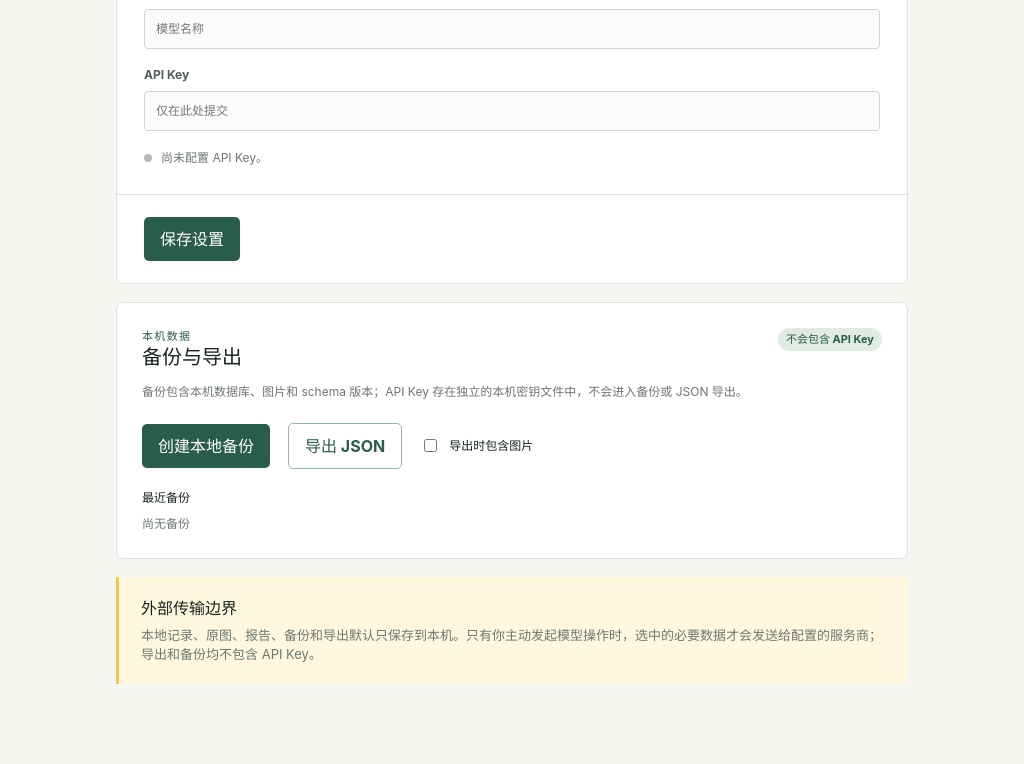
Test: SettingsPage › shows a safe error when backup creation fails
(page scrolled)
Step 1. Click the button "创建本地备份" → click(206, 446), box [142, 424, 270, 468]
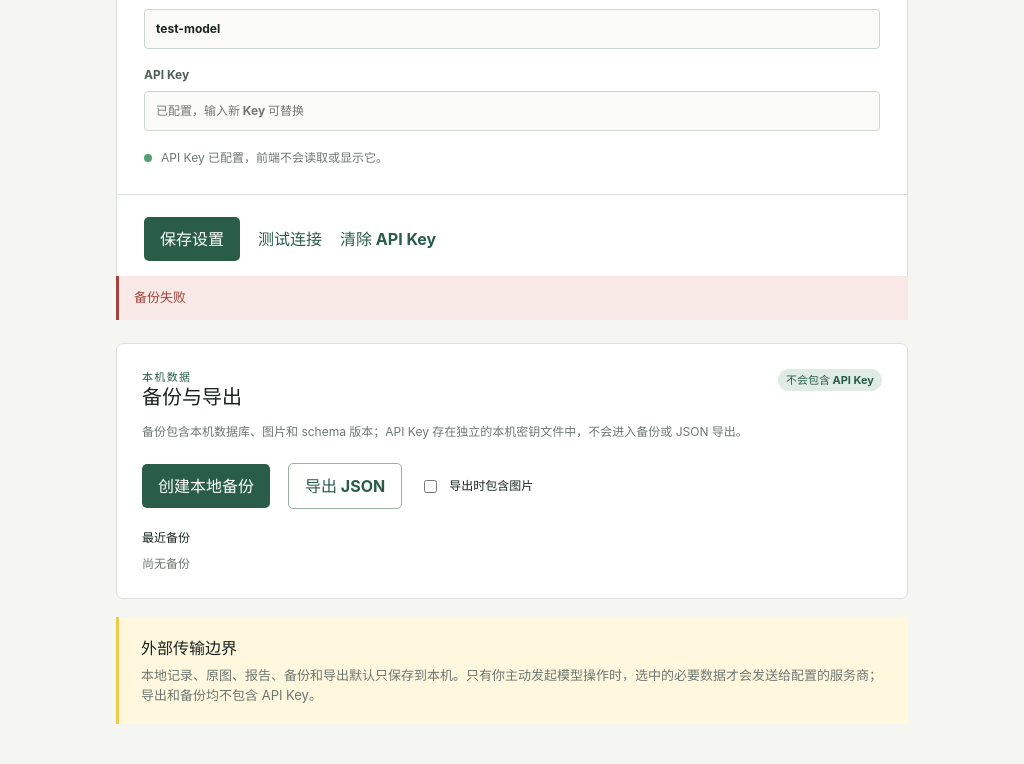
Result: the text "备份失败" is shown at [134, 288, 186, 308]
